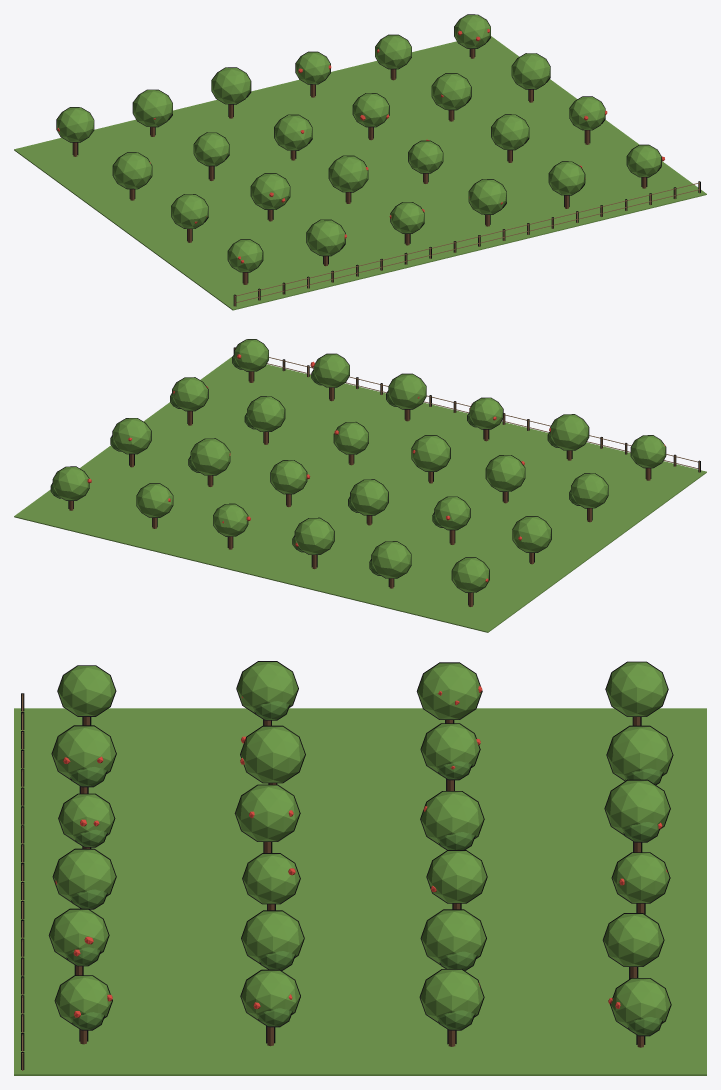
File: Kir_alan_meyve_1.fbx
3 renders of one model, top to bottom at view 1: azimuth 30°, elevation 25°; view 2: azimuth 150°, elevation 25°; view 3: azimuth 270°, elevation 25°, orthographic. The views are drawn at different scales.
Visible parts, largest first — view 1: Kir_alan_meyve_1; view 2: Kir_alan_meyve_1; view 3: Kir_alan_meyve_1.
Boxes of the visible parts, bbox=[...] form: Kir_alan_meyve_1: bbox=[14, 14, 706, 310]; Kir_alan_meyve_1: bbox=[14, 339, 706, 632]; Kir_alan_meyve_1: bbox=[14, 661, 706, 1075].
Bounding box in the file's own units: 50 × 5.04 × 40.
